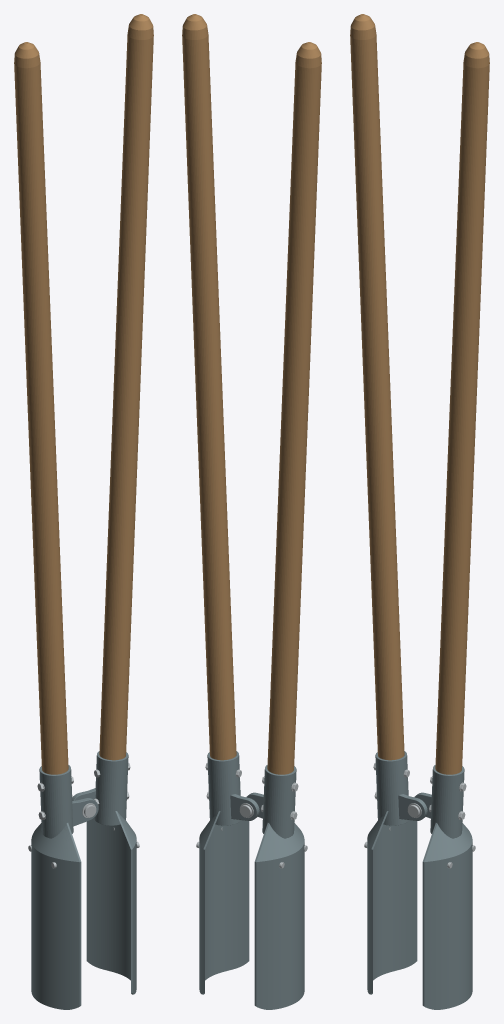
3 renders of one model, left to right at view 1: azimuth 30°, elevation 25°; view 2: azimuth 150°, elevation 25°; view 3: azimuth 330°, elevation 25°, orthographic.
Parts seen in each view (by area): view 1: Right_round_wooden_handle, Left_round_wooden_handle, Left_concave_scoop_and_shoulder, Right_concave_scoop_and_shoulder, Right_hollow_steel_socket, Left_hollow_steel_socket, Left_seated_hinge_cheek; view 2: Right_round_wooden_handle, Left_round_wooden_handle, Left_concave_scoop_and_shoulder, Right_concave_scoop_and_shoulder, Left_hollow_steel_socket, Right_hollow_steel_socket, Right_seated_hinge_cheek; view 3: Left_round_wooden_handle, Right_round_wooden_handle, Right_concave_scoop_and_shoulder, Left_concave_scoop_and_shoulder, Right_hollow_steel_socket, Left_hollow_steel_socket, Left_seated_hinge_cheek.
Boxes of the visible parts, left/top/right/bottom form: Right_round_wooden_handle: left=99, top=14, right=153, bottom=760; Left_round_wooden_handle: left=14, top=42, right=68, bottom=774; Left_concave_scoop_and_shoulder: left=31, top=823, right=81, bottom=1009; Right_concave_scoop_and_shoulder: left=86, top=811, right=136, bottom=994; Right_hollow_steel_socket: left=94, top=751, right=128, bottom=825; Left_hollow_steel_socket: left=39, top=765, right=73, bottom=838; Left_seated_hinge_cheek: left=72, top=798, right=98, bottom=826; Right_round_wooden_handle: left=182, top=14, right=236, bottom=760; Left_round_wooden_handle: left=267, top=42, right=321, bottom=774; Left_concave_scoop_and_shoulder: left=254, top=823, right=304, bottom=1009; Right_concave_scoop_and_shoulder: left=199, top=811, right=249, bottom=994; Left_hollow_steel_socket: left=262, top=765, right=296, bottom=838; Right_hollow_steel_socket: left=207, top=751, right=240, bottom=825; Right_seated_hinge_cheek: left=230, top=794, right=259, bottom=820; Left_round_wooden_handle: left=350, top=14, right=404, bottom=760; Right_round_wooden_handle: left=435, top=42, right=489, bottom=774; Right_concave_scoop_and_shoulder: left=422, top=823, right=472, bottom=1009; Left_concave_scoop_and_shoulder: left=367, top=811, right=417, bottom=994; Right_hollow_steel_socket: left=430, top=765, right=464, bottom=838; Left_hollow_steel_socket: left=375, top=751, right=408, bottom=825; Left_seated_hinge_cheek: left=398, top=794, right=427, bottom=820.
Bounding box in the file's own units: 0.218 × 1.47 × 0.123.
